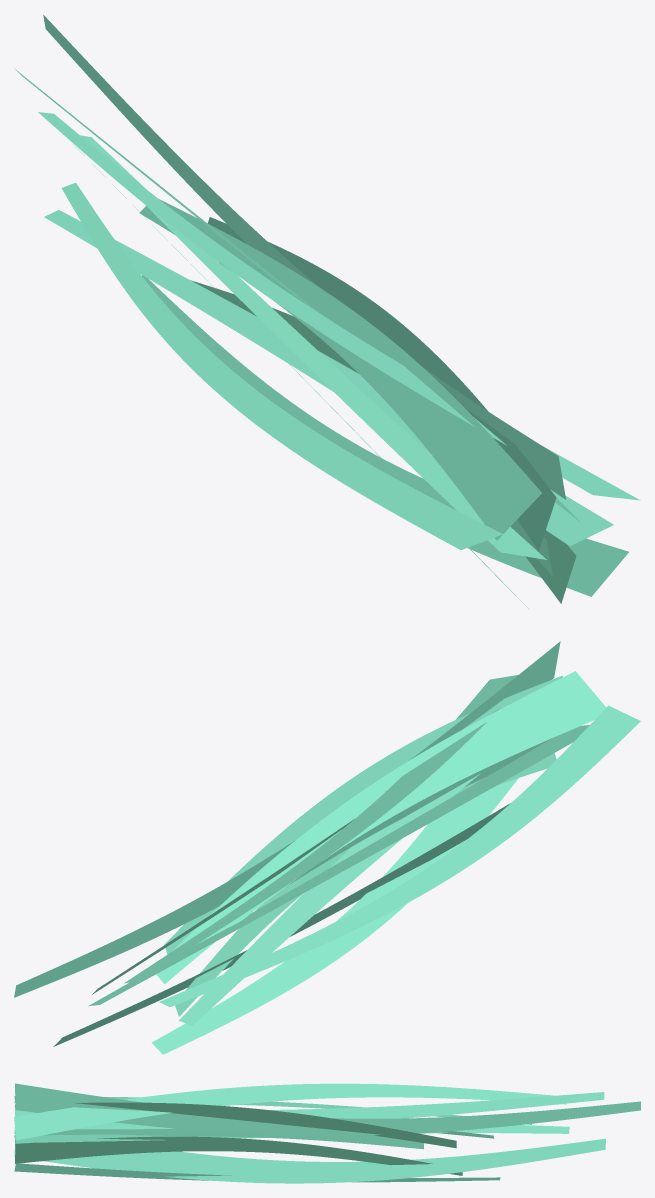
File: kelp-grove-04.glb
3 renders of one model, top to bottom at view 1: azimuth 30°, elevation 25°; view 2: azimuth 150°, elevation 25°; view 3: azimuth 270°, elevation 25°, orthographic. The views are drawn at different scales.
Visible parts, largest first — view 1: kelp-grove-04; view 2: kelp-grove-04; view 3: kelp-grove-04.
Part boxes in pixels (<box>): kelp-grove-04: <box>14,15,640,609</box>; kelp-grove-04: <box>14,641,640,1054</box>; kelp-grove-04: <box>14,1083,640,1183</box>.
Size of the model in its own units: 2.11 by 1.91 by 10.96.
